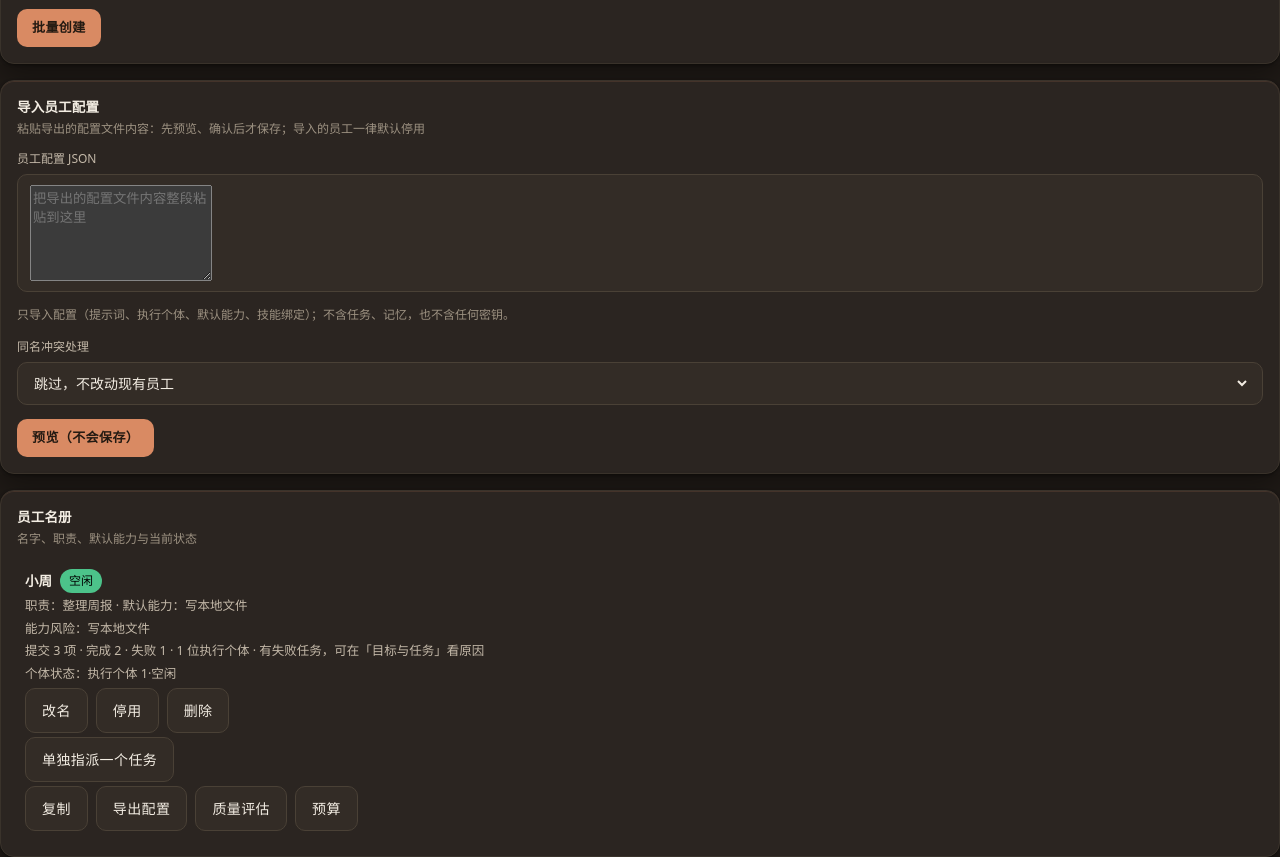
Scenario: 员工补齐能力 › 预算：展示消耗/剩余，保存时把上限原样提交
Later steps or results of the test are not shown.
(page scrolled)
Click the button "预算". click: (326, 808)
box: [295,786,358,831]
(page scrolled)
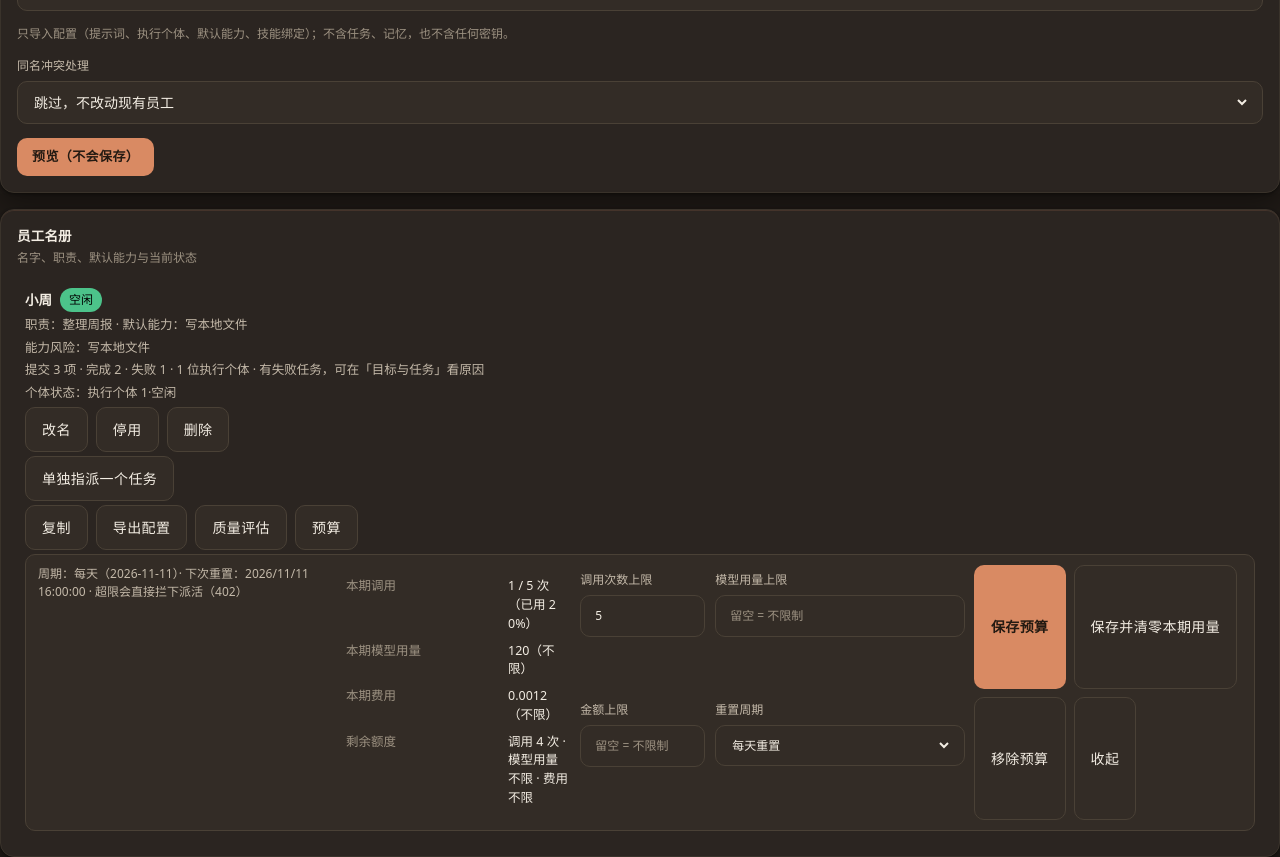
Check: the text "本期调用" is shown, box [346,577,396,594]
Check: the text "1 / 5 次（已用 20%）" is shown, box [508,577,556,632]
Check: the text "120（不限）" is shown, box [508,642,554,677]
